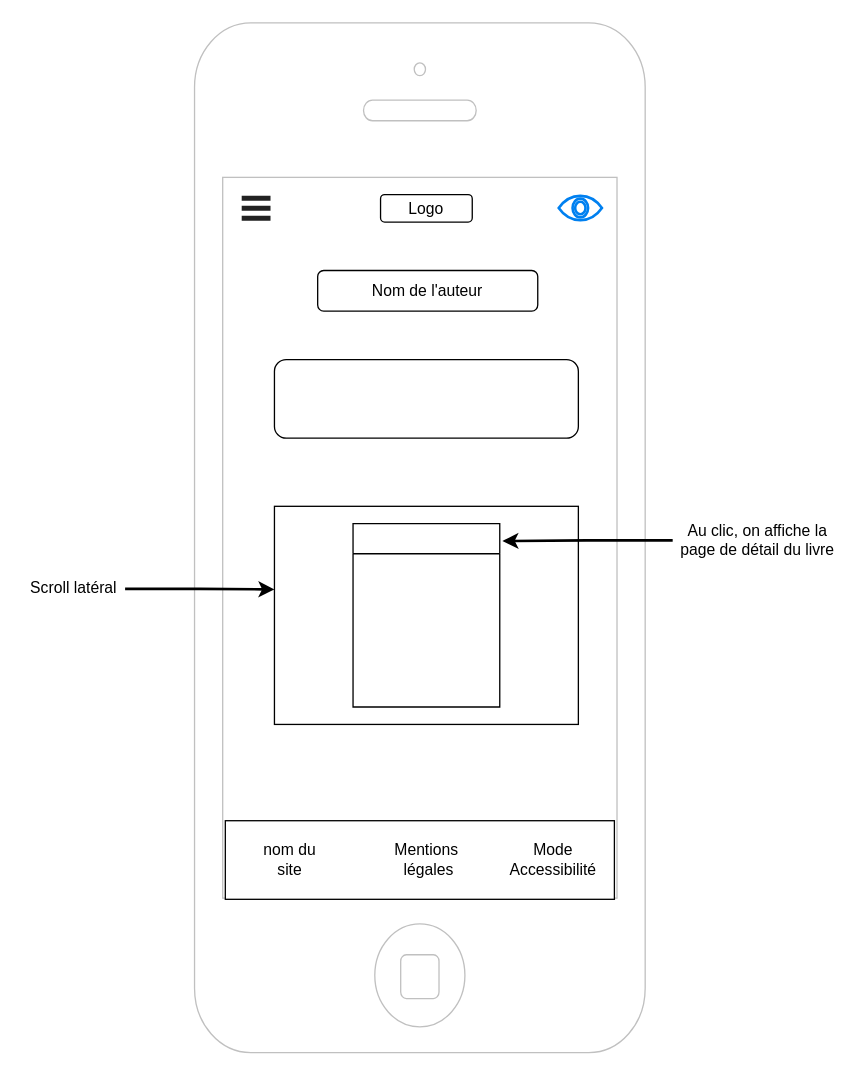
Some shapes in this 865 by 1076 pixel diagram are drawn without their labels. The shapes that lost their labels are listed below. From the top down, each one's centre as x and y in pixels, then its label:
At point 425,398: "Présentation rapide de l'auteur".
At point 426,614: "Livre 1".
